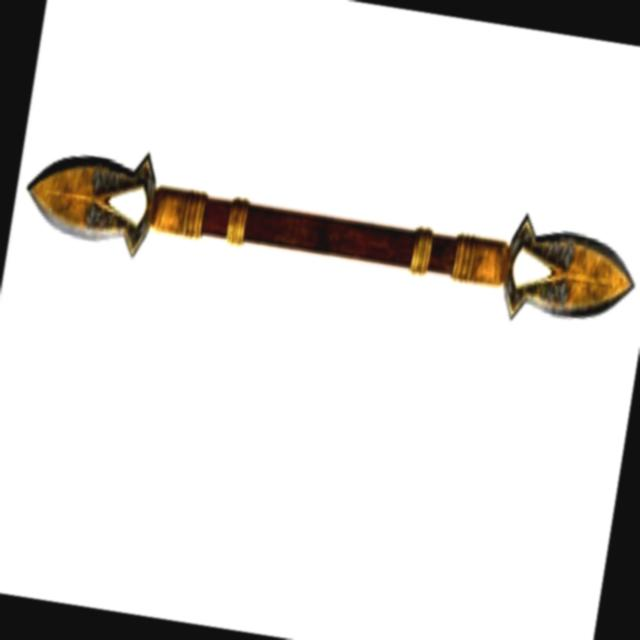spear: (15, 112, 640, 370)
